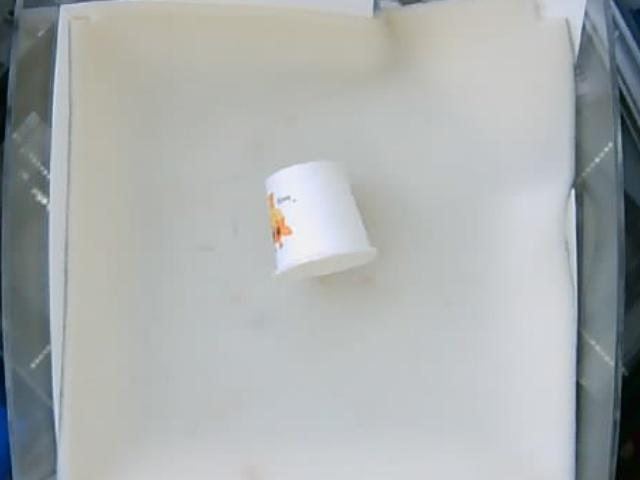Cup: (263, 162, 376, 282)
